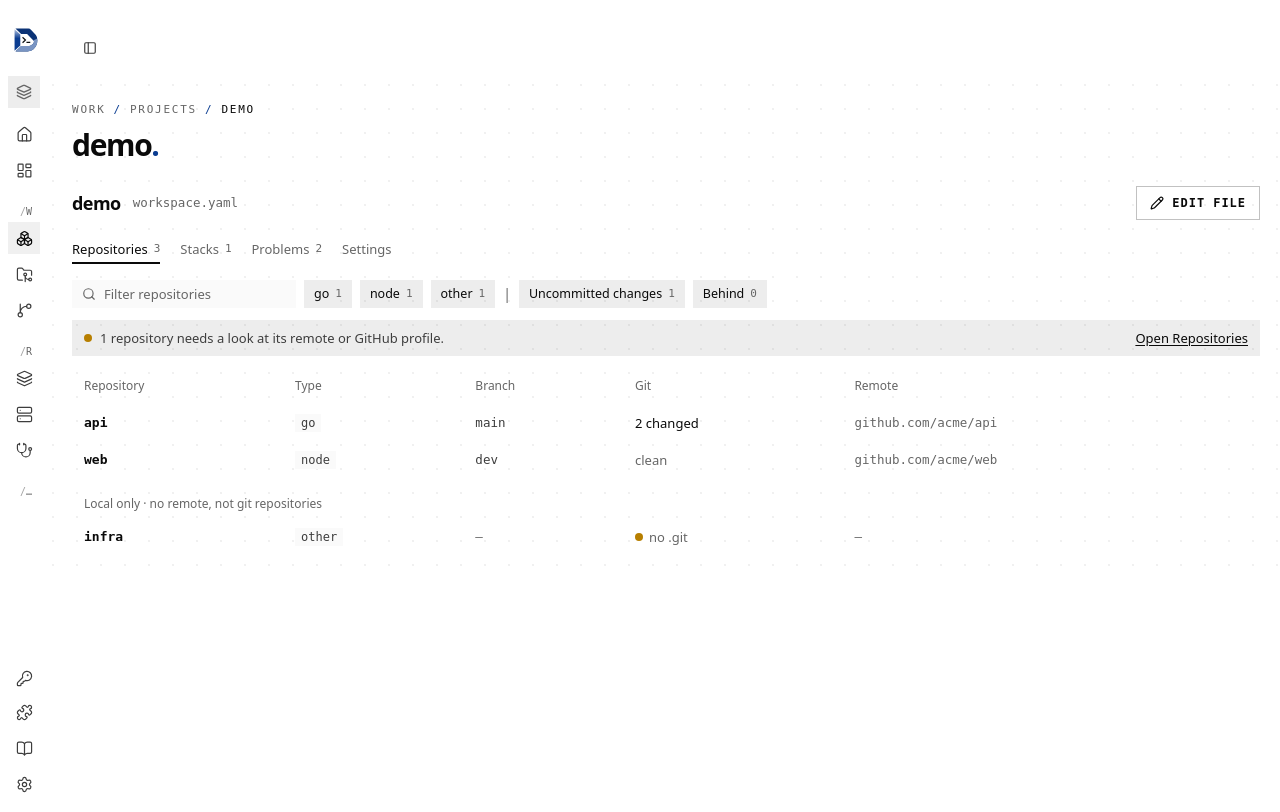
Test: workspaces page › shows the first workspace's repos with their git state, and filters them
The width and height of the screenshot is (1280, 812).
Expected: the text "main" is shown, [463,404,623,441]
Expected: the text "2 changed" is shown, [635,414,699,432]
# filter by type, by text, and by uncommitted changes
Click the button "go 1": [328, 294] box [304,280,352,308]
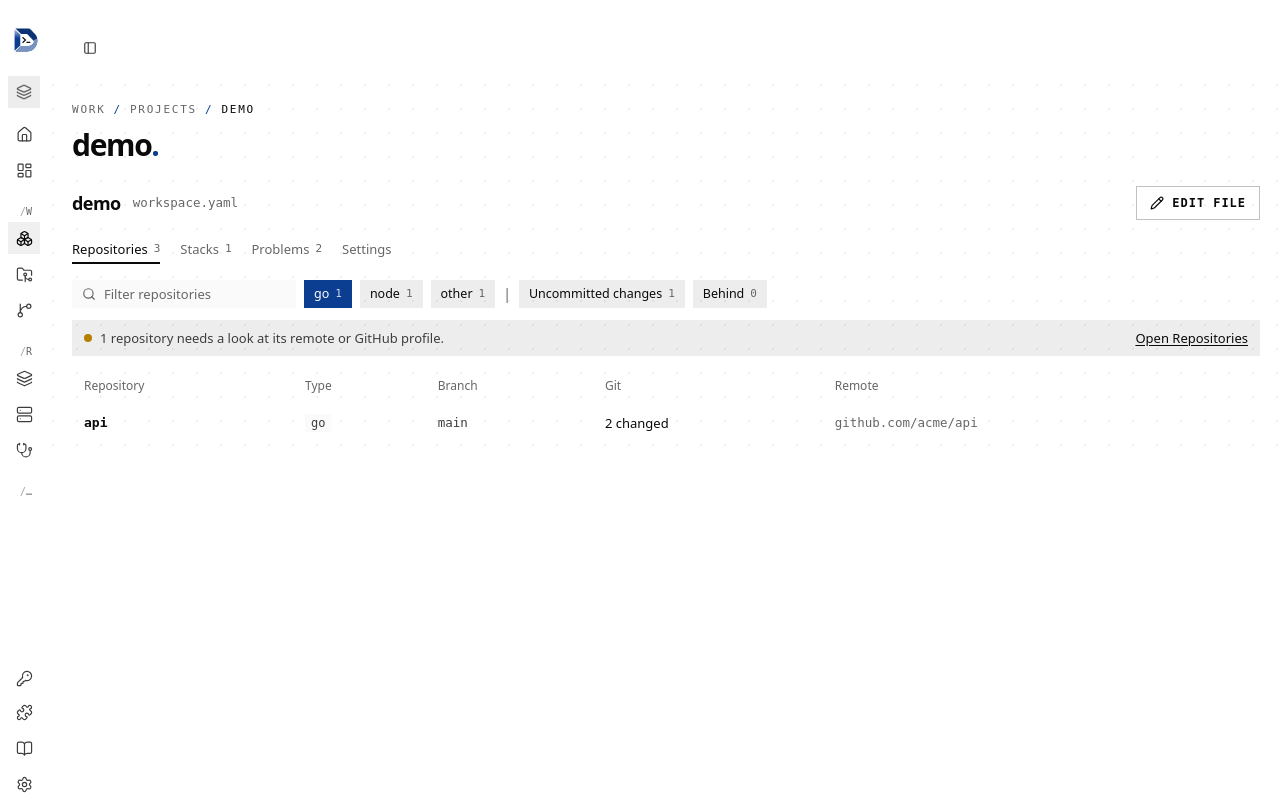
Expected: the text "api" is shown, [84,414,108,430]
Expected: the text "web" is gone
Click the button "go 1": [328, 294] box [304,280,352,308]
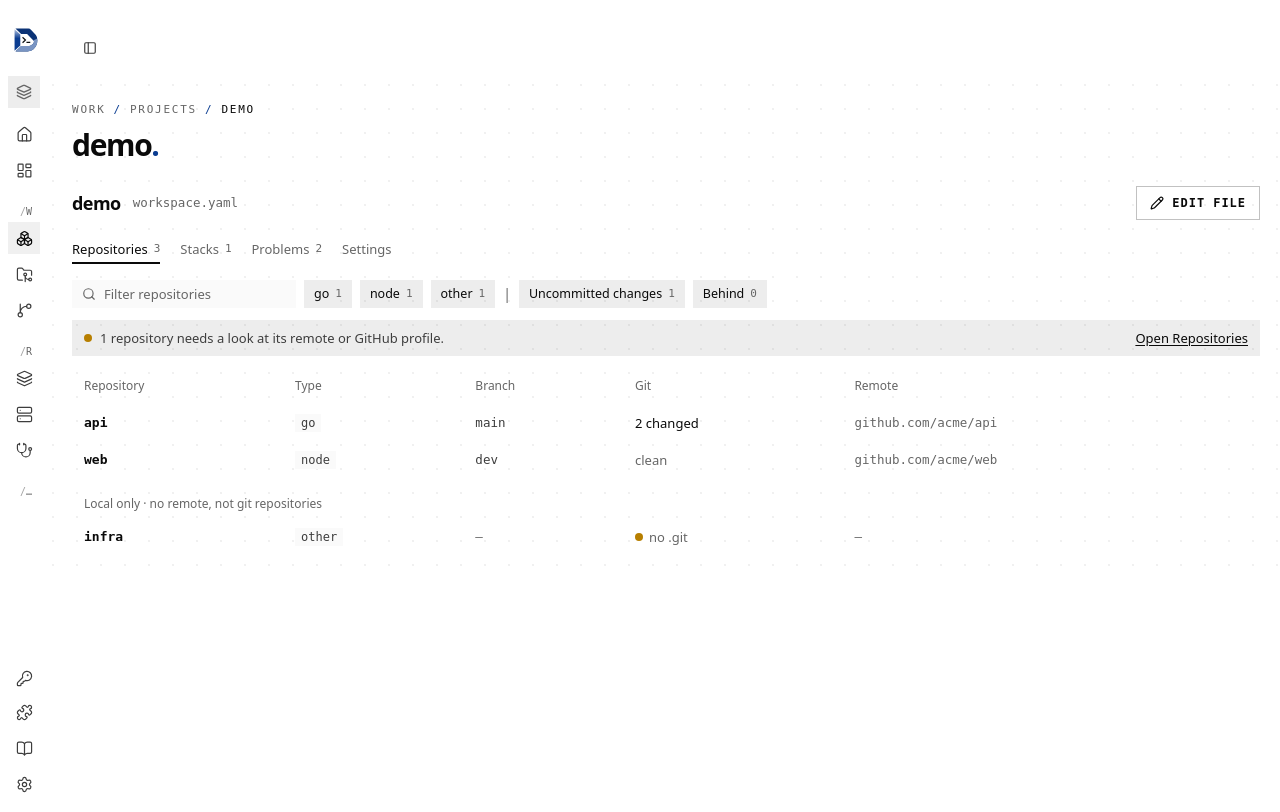
Click the button "Uncommitted changes 1": [602, 294] box [519,280,685,308]
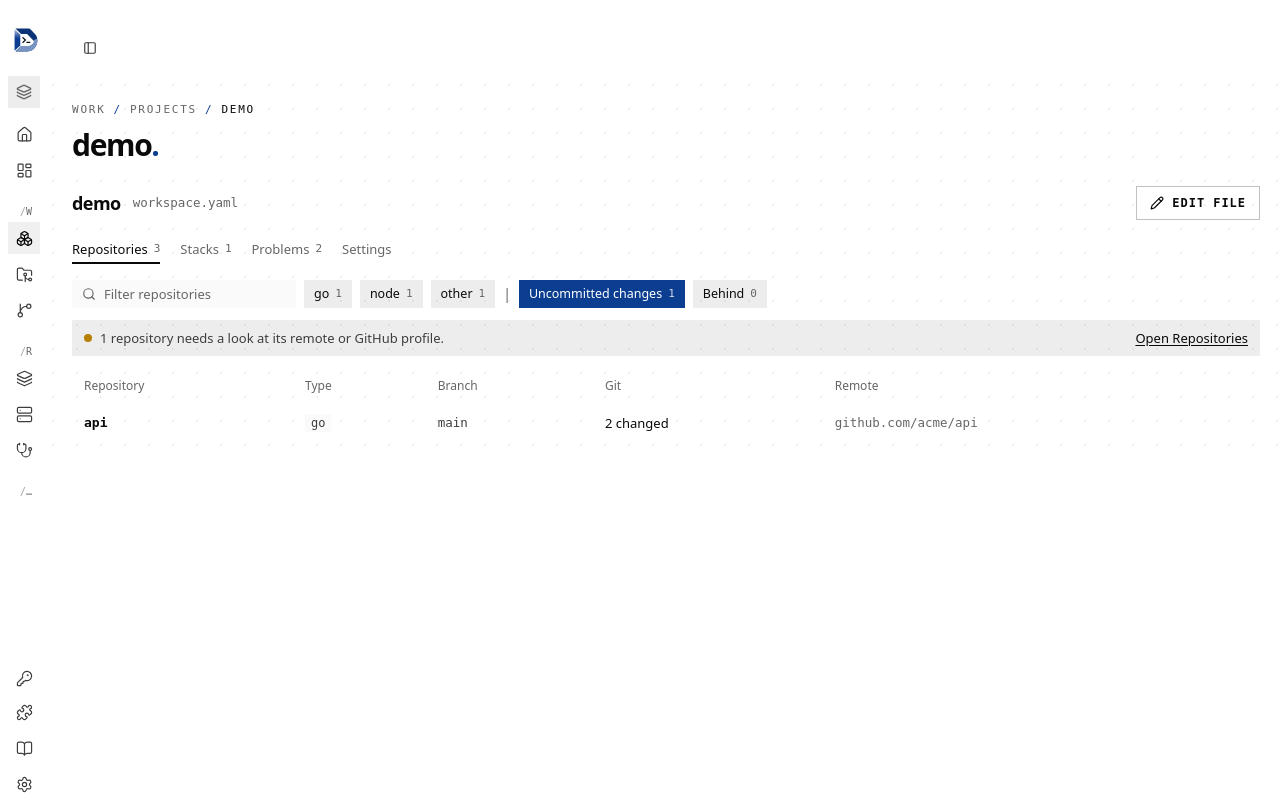
Expected: the text "web" is gone
Click the button "Uncommitted changes 1": [602, 294] box [519,280,685,308]
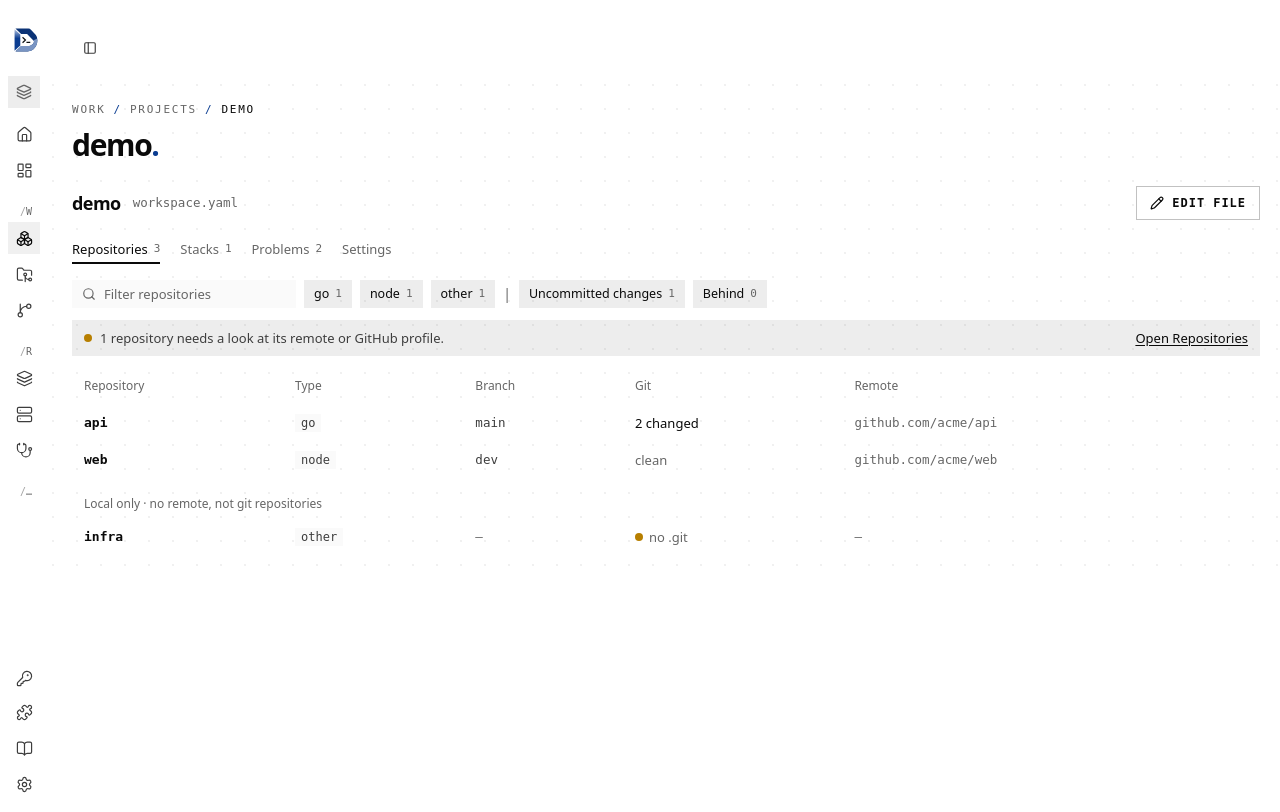
In the search field labelled "Filter repositories": [184, 294] box [72,280,296,308], type "inf"
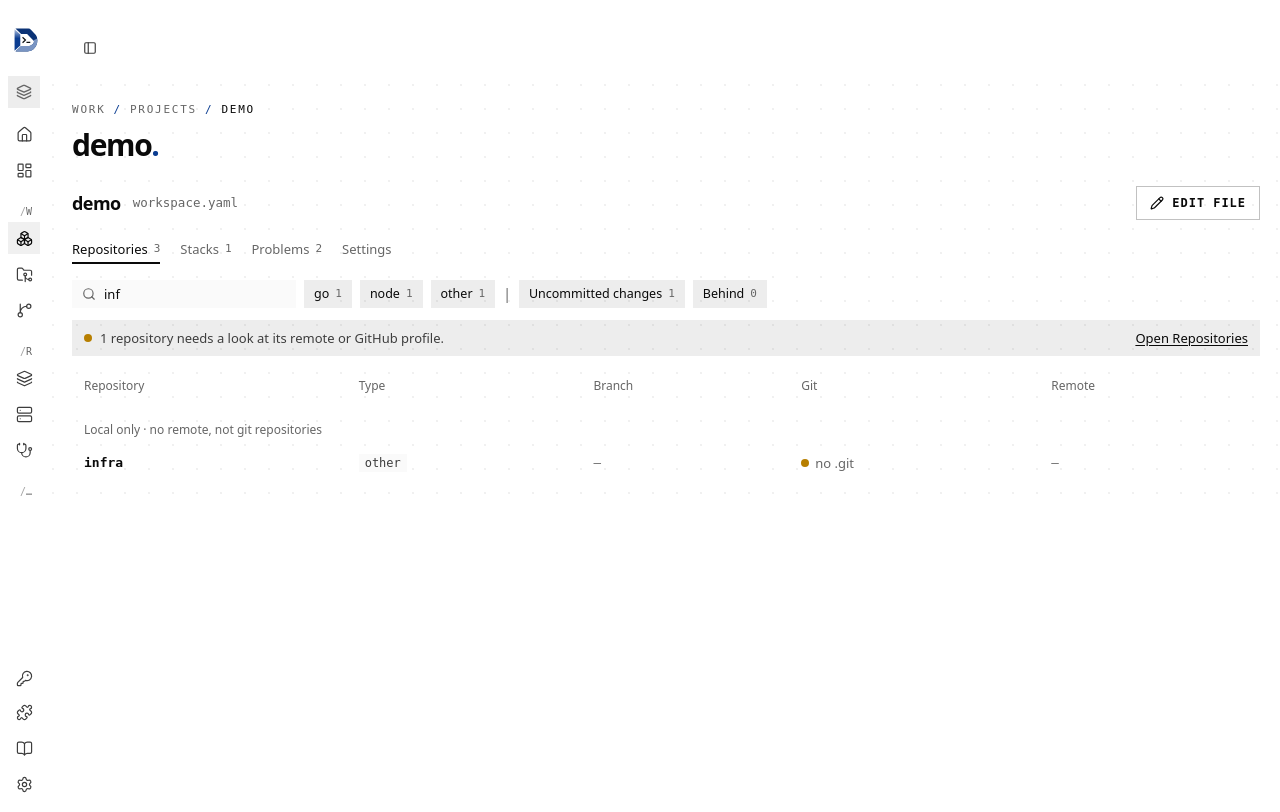
Expected: the text "infra" is shown, [84,454,123,470]
Expected: the text "api" is gone
Replace the text in the search field named "Filter repositories" with "zzz": [184, 294] box [72,280,296,308]
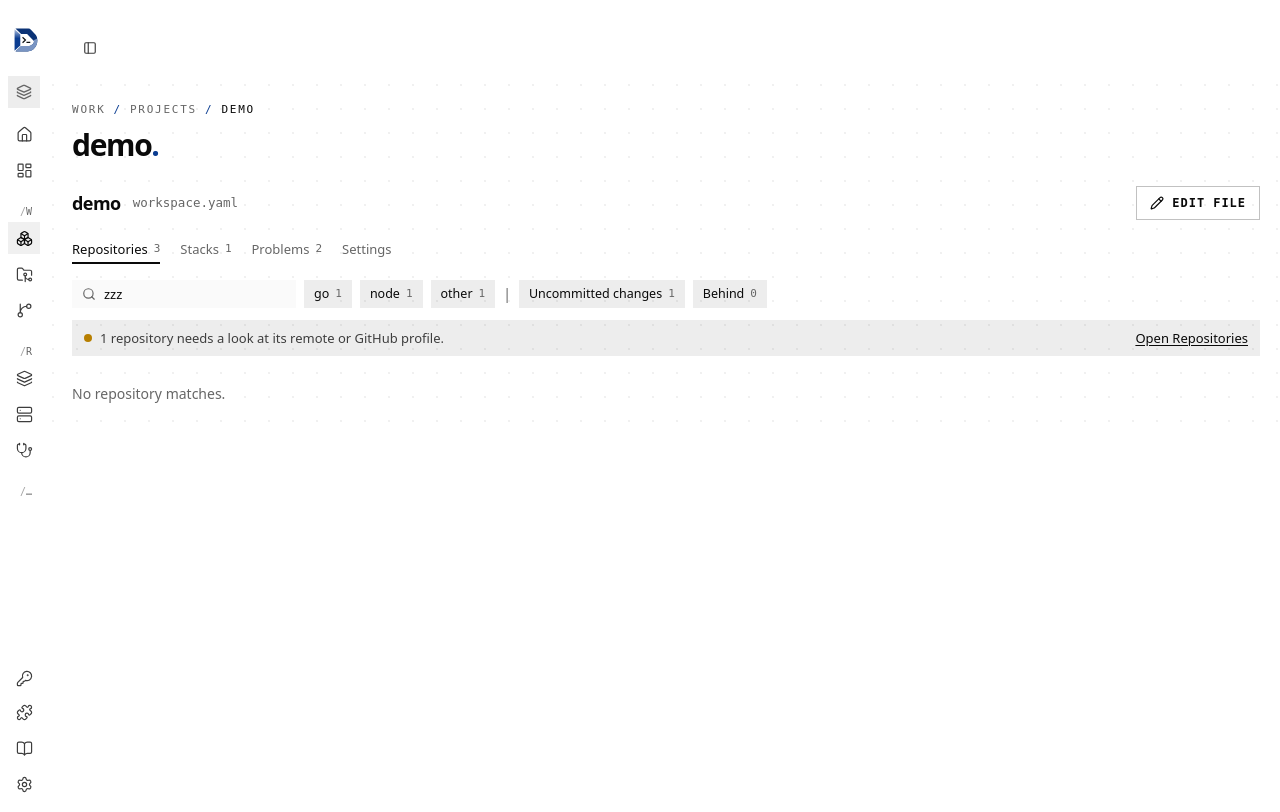
Expected: the text "No repository matches." is shown, [72,384,225,403]
